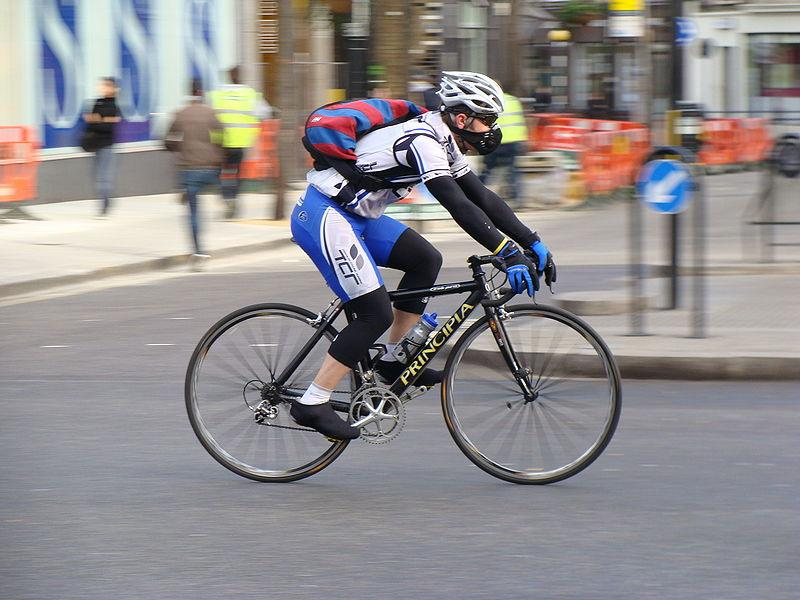person: (287, 68, 554, 440)
